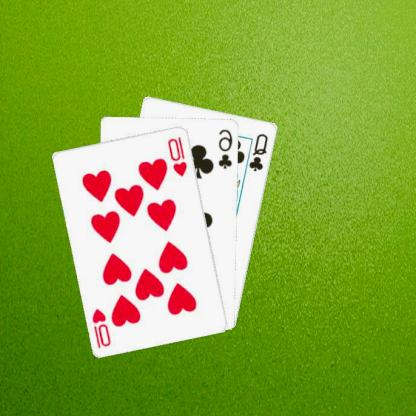10H: (91, 305, 115, 349), (167, 134, 190, 178)
6C: (218, 126, 236, 170)
QC: (249, 130, 272, 173)
